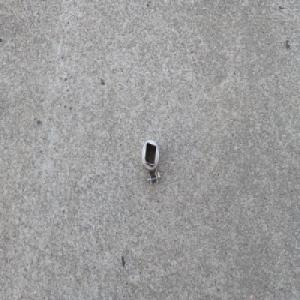MetalPart: (140, 137, 161, 187)
